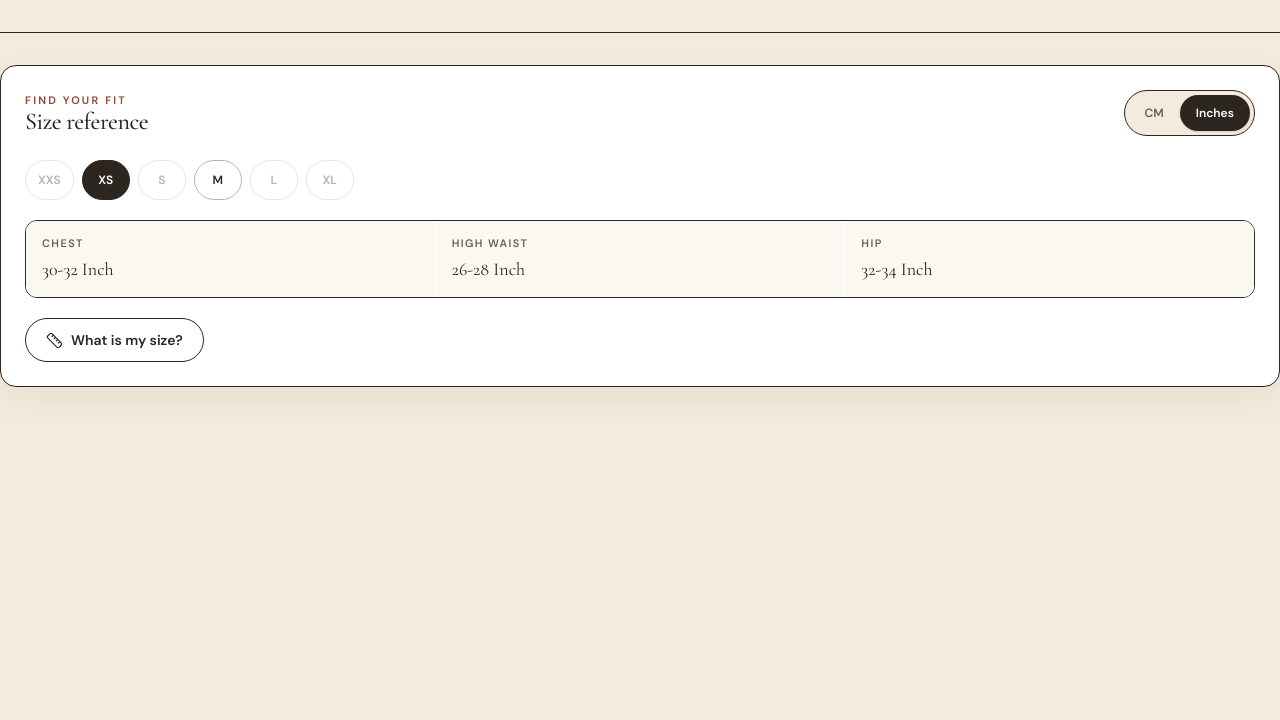
Test: SizeChart › opens and closes the measuring guide
Click the button "What is my size?".
click(114, 340)  # box [25, 318, 204, 362]
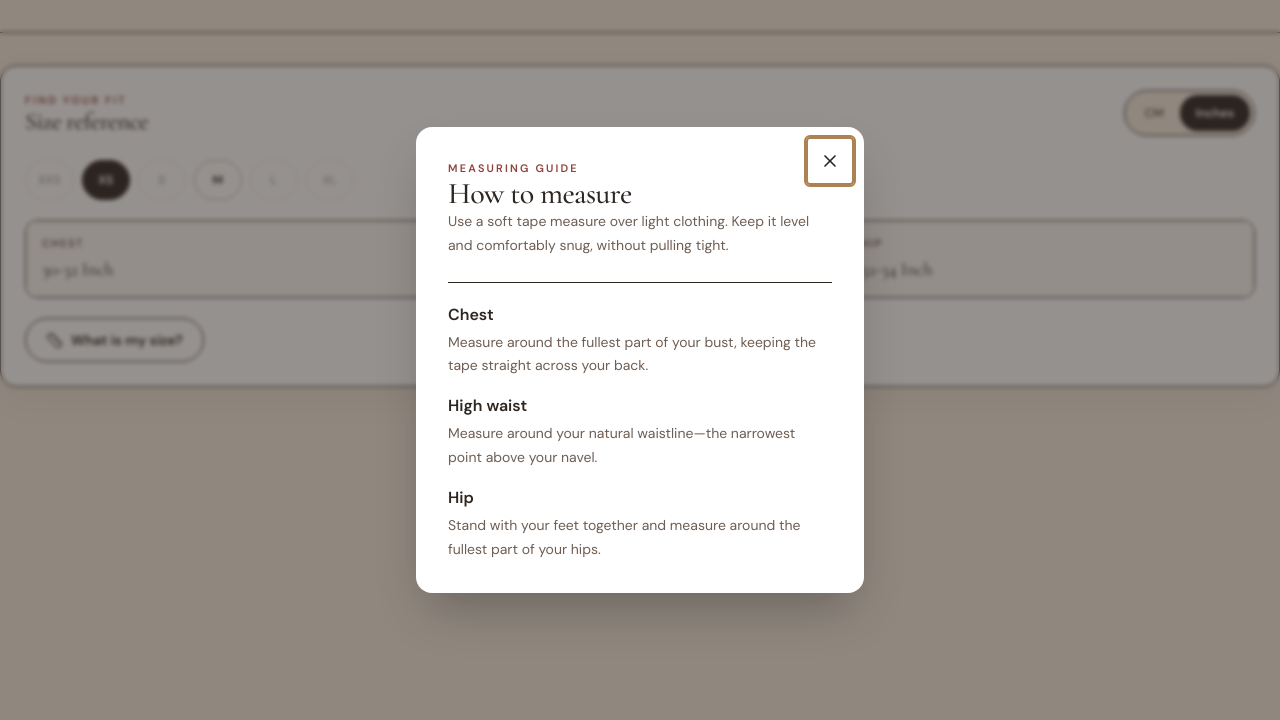
Expected: the dialog "How to measure" is shown, [416, 127, 864, 594]
Click the button named "Close size guide".
click(830, 161)  # box [808, 139, 852, 183]
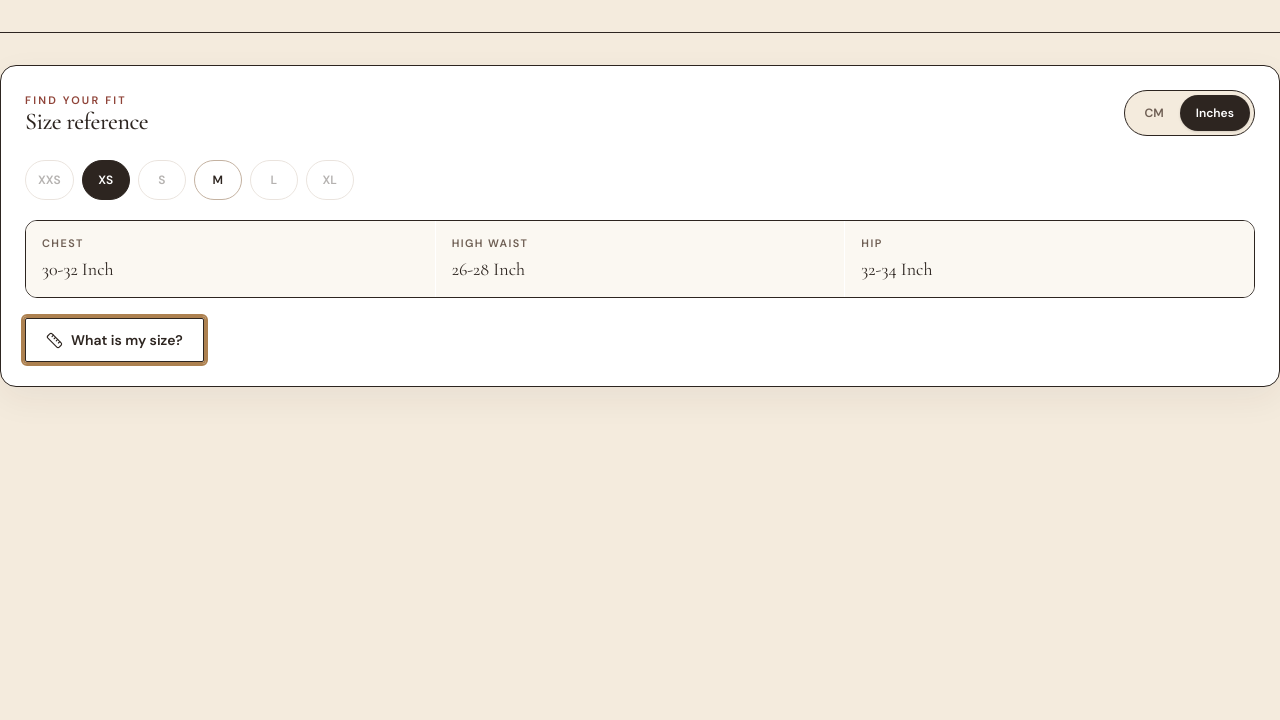
Expected: the dialog is gone
